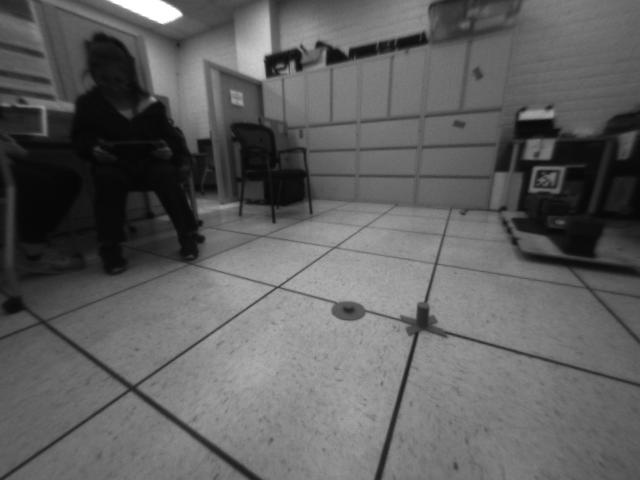X: (399, 302, 453, 338)
